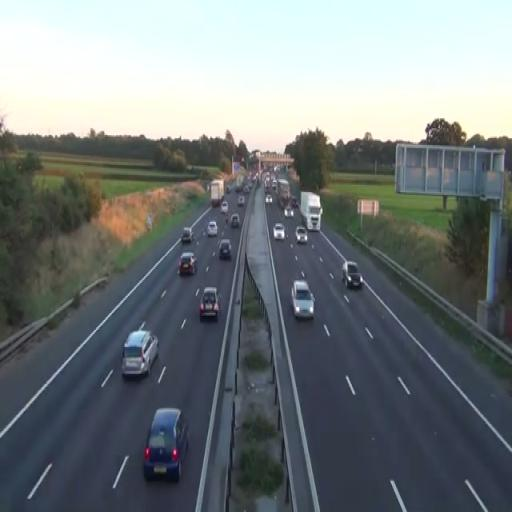Car: (142, 407, 190, 483), (121, 330, 160, 380), (290, 280, 315, 322), (198, 286, 221, 320), (342, 261, 362, 289), (178, 252, 198, 276), (218, 238, 232, 261), (295, 225, 308, 244), (206, 220, 218, 238), (274, 224, 284, 241), (230, 213, 240, 228), (284, 208, 294, 218)
Truck: (300, 190, 322, 232)
